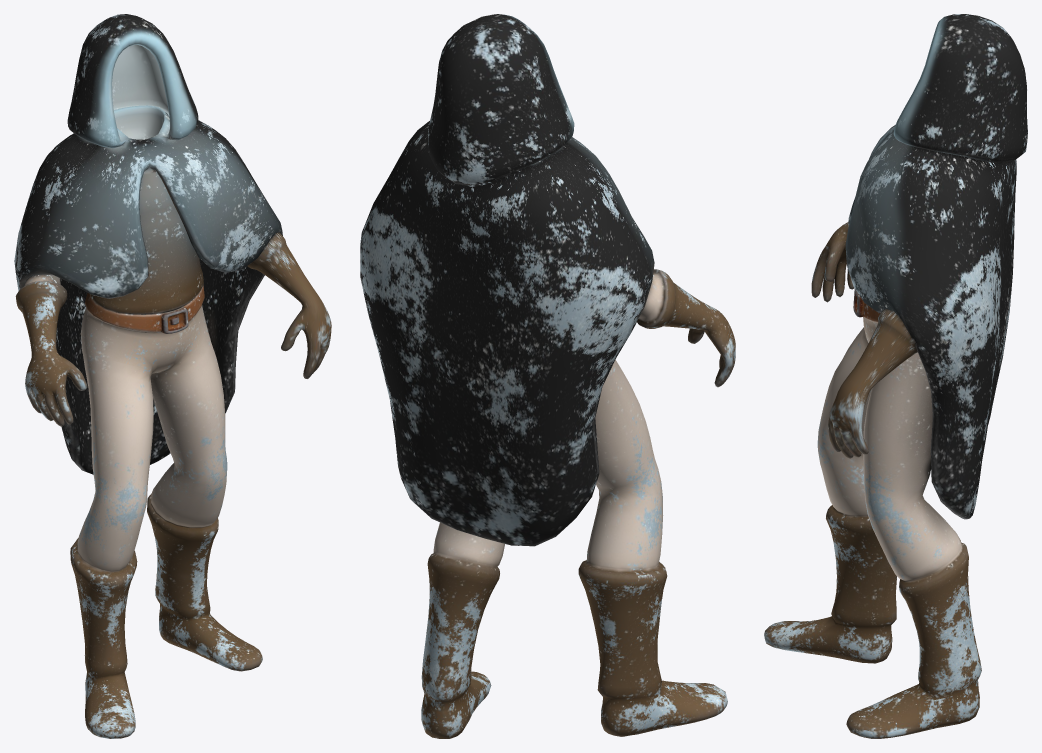
Rendered from MZ4250 - Coldlight Walker.glb.
3 renders of one model, left to right at view 1: azimuth 30°, elevation 25°; view 2: azimuth 150°, elevation 25°; view 3: azimuth 270°, elevation 25°, orthographic. The views are drawn at different scales.
Visible parts, largest first — view 1: Body.002; view 2: Body.002; view 3: Body.002.
Part boxes in pixels (<box>): Body.002: <box>14,14,331,738</box>; Body.002: <box>360,14,735,738</box>; Body.002: <box>764,14,1027,738</box>.
Bounding box in the file's own units: 0.4845 × 0.9584 × 0.3387.
1 material, 1 textured.
